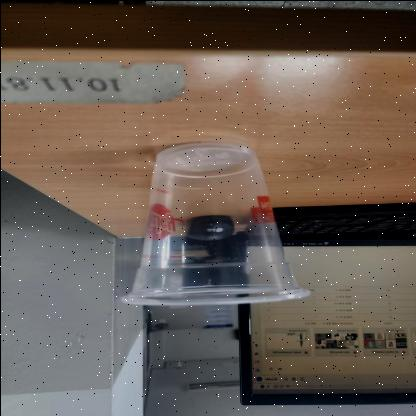Others: (116, 141, 310, 304)
